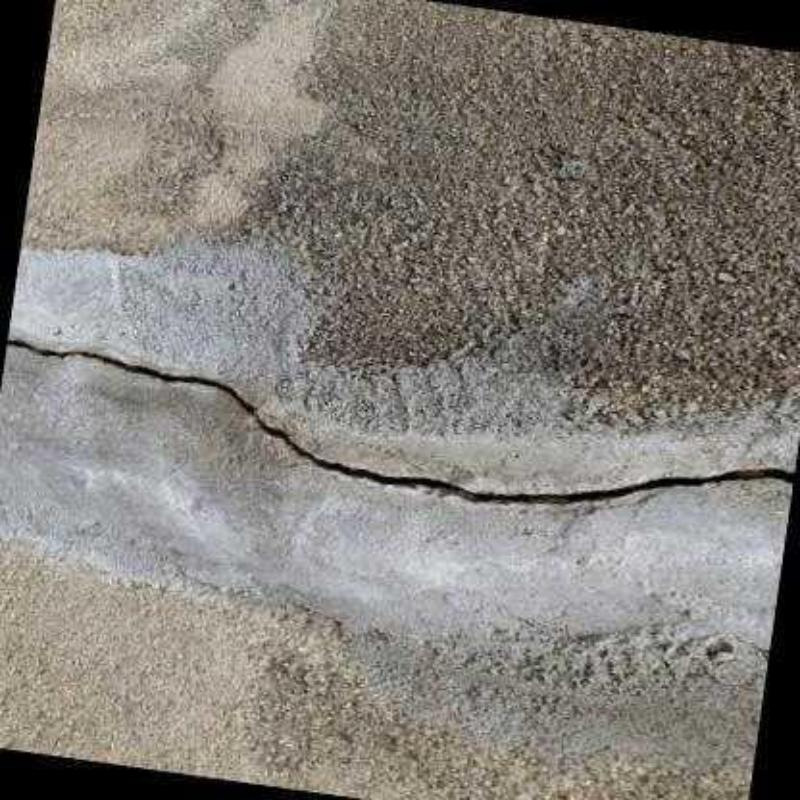crack: (4, 339, 794, 504)
